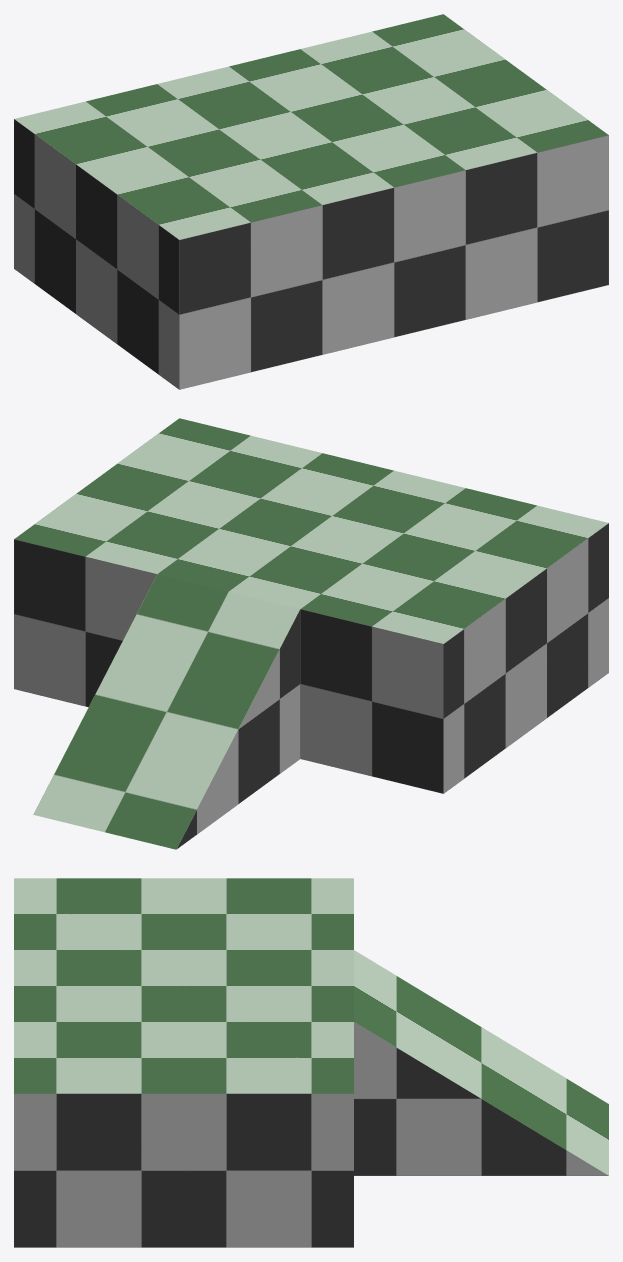
Rendered from SpawnArea.fbx.
The picture shows the model from 3 angles, top to bottom: view 1: azimuth 30°, elevation 25°; view 2: azimuth 150°, elevation 25°; view 3: azimuth 270°, elevation 25°; orthographic projection. The views are drawn at different scales.
Visible parts, largest first — view 1: SpawnAreaBlock; view 2: SpawnAreaBlock, SpawnAreaRamp; view 3: SpawnAreaBlock, SpawnAreaRamp.
Boxes of the visible parts, x1,y1,x2,y2 form: SpawnAreaBlock: (14,14,608,389); SpawnAreaBlock: (14,418,608,793); SpawnAreaRamp: (33,574,300,849); SpawnAreaBlock: (14,878,353,1247); SpawnAreaRamp: (354,950,608,1175).
Bounding box in the file's own units: 600 × 200 × 700.
